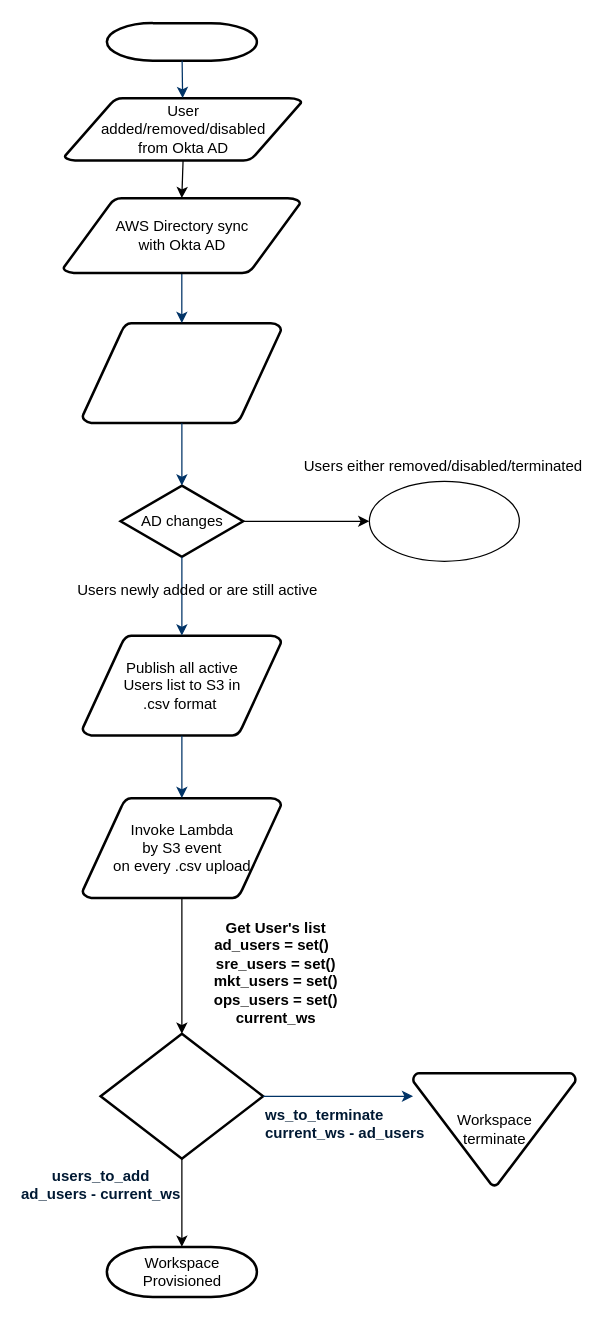
Image size: 610x1319. Some labels were removed from this diagram. The shapes that lost their labels are listed below. From the top down, each one's box as (x1, y1, x2, y2) in pixels, then its label:
(105, 21, 258, 61): start
(81, 321, 282, 424): AWS System Manager PowerShell Task (filter all AD changes for active user)
(368, 480, 519, 561): Terminate their associated workspaces
(99, 1032, 264, 1159): Logic to manage Workspace
